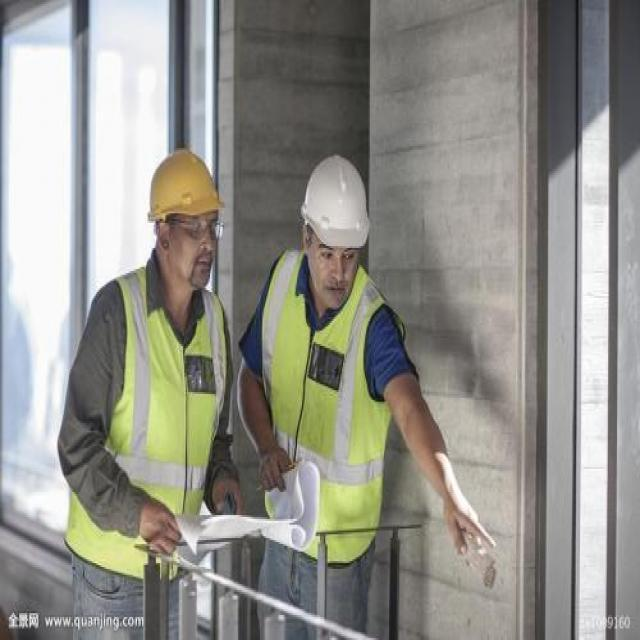hardhat: (298, 150, 375, 251), (143, 147, 227, 226)
no_gloves: (430, 481, 499, 557), (138, 486, 183, 564), (203, 474, 247, 520), (258, 441, 294, 492)
person: (237, 152, 498, 640), (65, 147, 245, 640)
vest: (66, 266, 229, 588), (250, 246, 395, 565)
